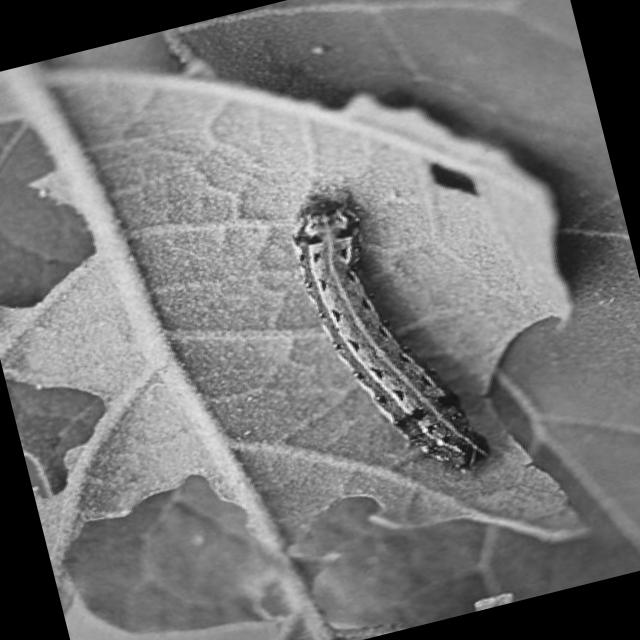Armyworm: (279, 152, 497, 507)
Armyworm_damage: (417, 142, 505, 224)
